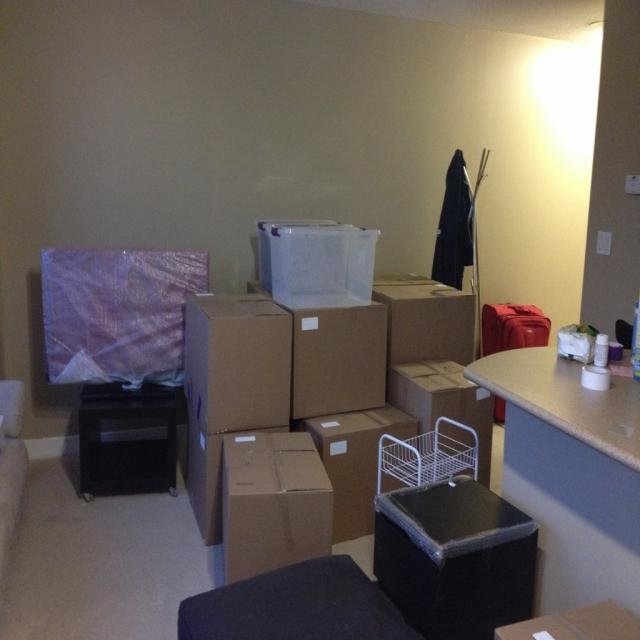Box: (300, 400, 422, 540), (222, 434, 335, 584), (380, 353, 493, 494), (185, 409, 292, 545), (199, 288, 290, 446), (287, 294, 388, 430), (370, 257, 478, 366)
